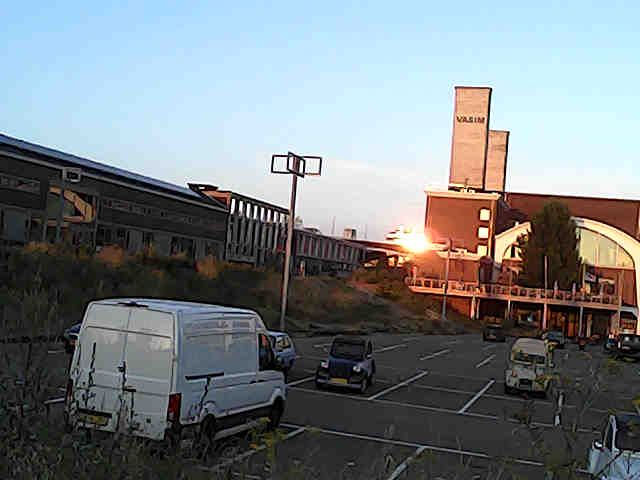suv: (315, 336, 375, 392), (588, 414, 639, 479), (268, 331, 295, 378), (616, 333, 639, 358), (62, 323, 81, 353), (541, 330, 565, 348), (482, 324, 505, 341), (603, 334, 617, 353)
whitevan: (66, 298, 285, 441), (589, 414, 639, 479)
